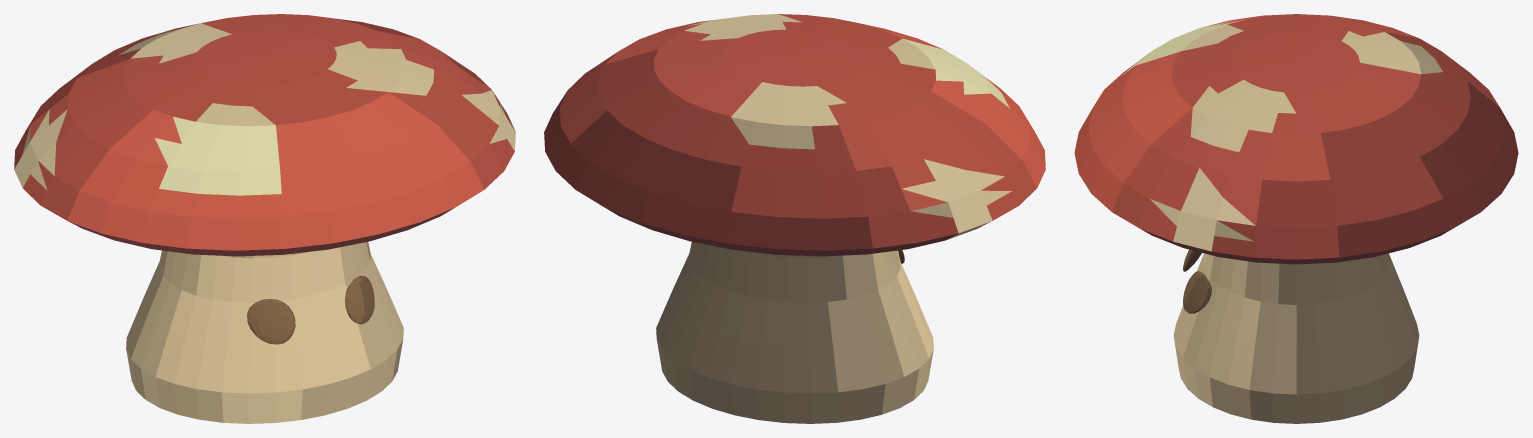
File: mushroom.glb
3 views of the same model, side by side, from view 1: azimuth 30°, elevation 25°; view 2: azimuth 150°, elevation 25°; view 3: azimuth 270°, elevation 25° (orthographic). The views are drawn at different scales.
Visible parts, largest first — view 1: mushroom; view 2: mushroom; view 3: mushroom.
Part boxes in pixels (x1,y1,x2,y2): mushroom: [14, 14, 515, 423]; mushroom: [544, 14, 1045, 423]; mushroom: [1074, 14, 1518, 423].
Size of the model in its own units: 2.24 by 1.64 by 1.97.
